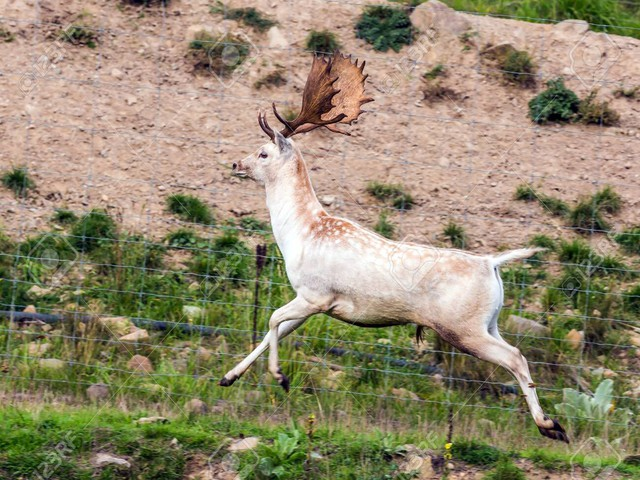deer: (209, 46, 572, 436)
